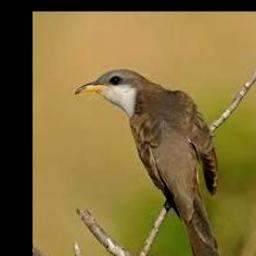Cuckoo: (75, 70, 229, 256)
